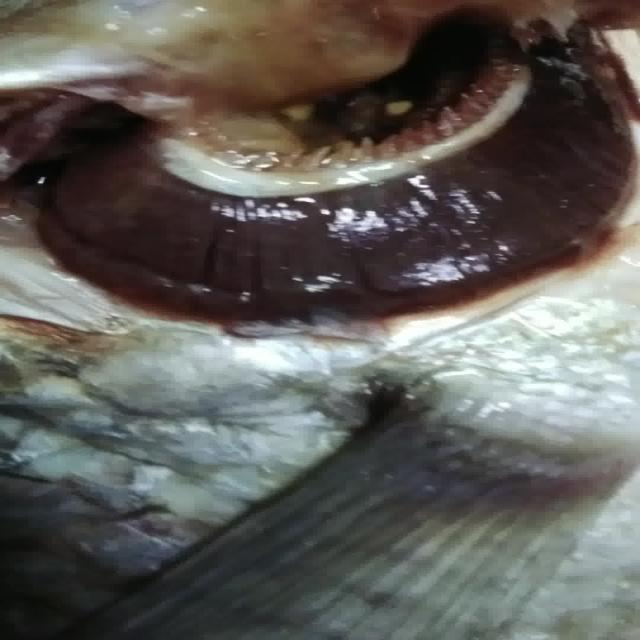Non-Fresh: (30, 4, 622, 349)
